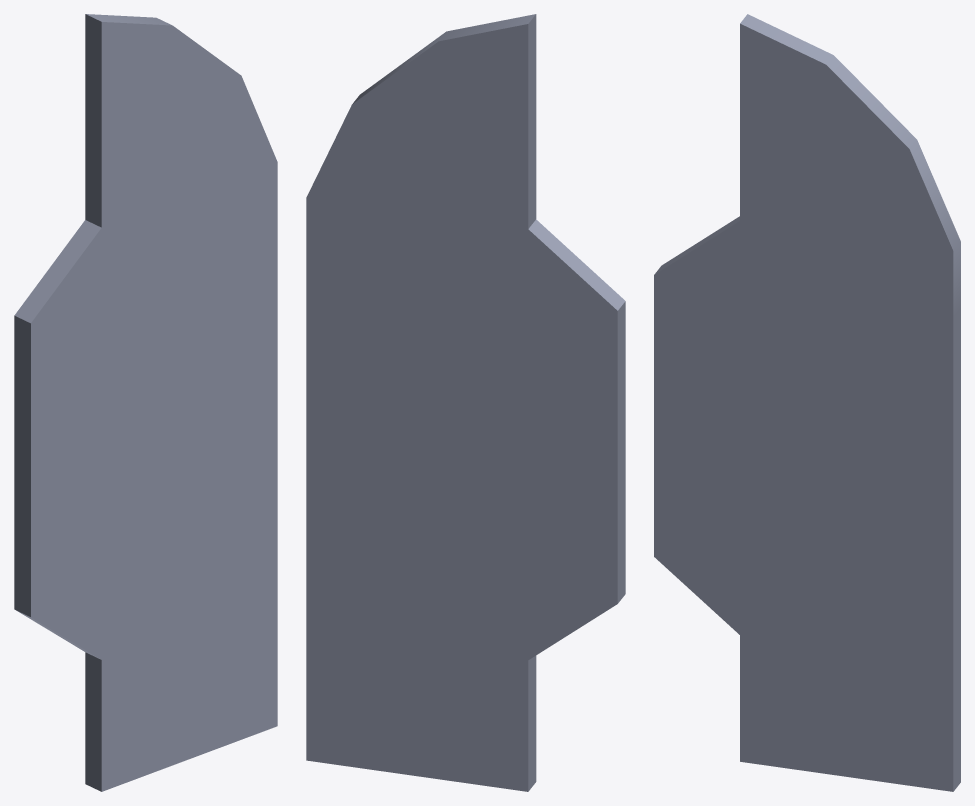
Rendered from Loc_door_L.gltf.
3 renders of one model, left to right at view 1: azimuth 30°, elevation 25°; view 2: azimuth 150°, elevation 25°; view 3: azimuth 330°, elevation 25°, orthographic. The views are drawn at different scales.
Parts seen in each view (by area): view 1: Plane003; view 2: Plane003; view 3: Plane003.
Boxes of the visible parts, box(x1,y1,x2,y2) form: Plane003: box(14, 14, 277, 791); Plane003: box(306, 14, 625, 791); Plane003: box(654, 14, 960, 791).
Size of the model in its own units: 0.5693 by 1.48 by 0.1562.
